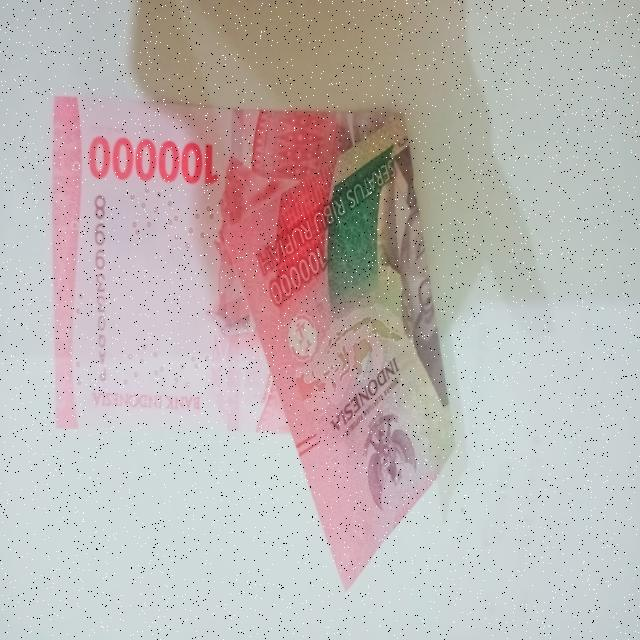100K: (41, 74, 459, 596)
